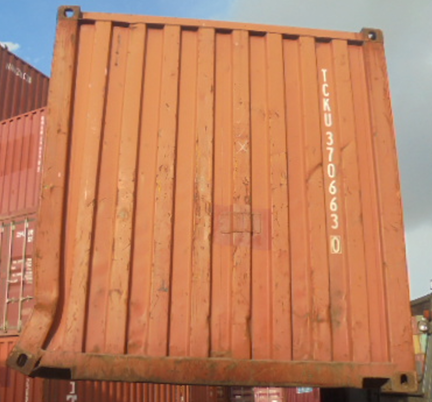dented: (17, 262, 80, 353)
